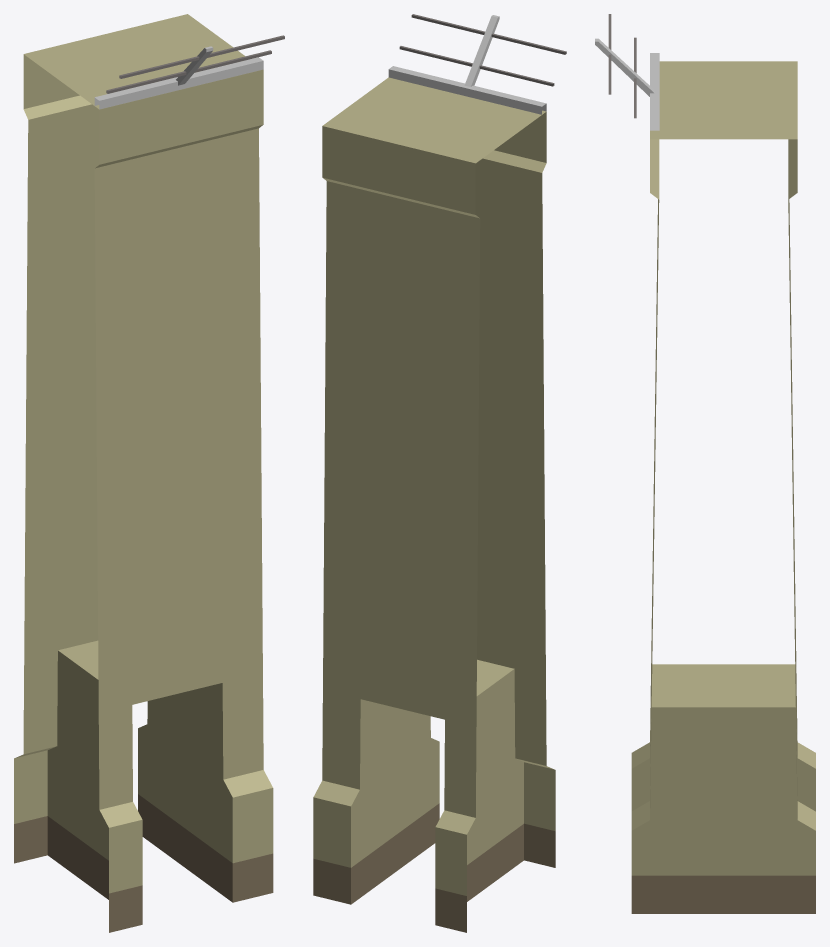
Rendered from SM_Wall_Big_Door_200.FBX.
3 views of the same model, side by side, from view 1: azimuth 30°, elevation 25°; view 2: azimuth 150°, elevation 25°; view 3: azimuth 270°, elevation 25° (orthographic). The views are drawn at different scales.
Parts seen in each view (by area): view 1: SM_Wall_Big_Door_200; view 2: SM_Wall_Big_Door_200; view 3: SM_Wall_Big_Door_200.
Part boxes in pixels (bbox=[...]): SM_Wall_Big_Door_200: bbox=[14, 14, 284, 932]; SM_Wall_Big_Door_200: bbox=[313, 14, 566, 932]; SM_Wall_Big_Door_200: bbox=[595, 14, 815, 913].
Size of the model in its own units: 200 by 240 by 1022.
